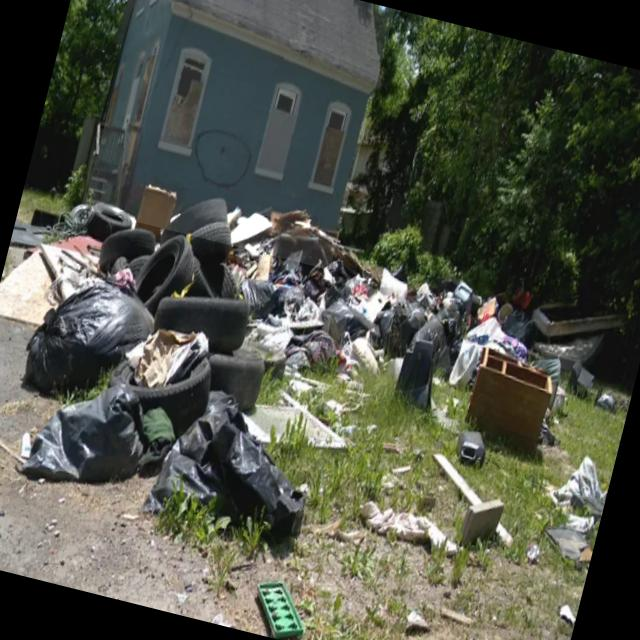House: (82, 0, 394, 269)
